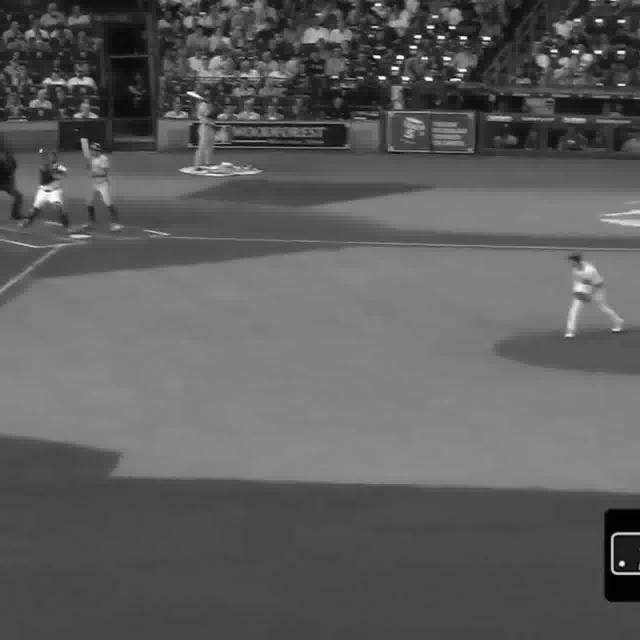base: (70, 233, 90, 239)
baseball: (39, 149, 44, 152)
baseball_glove: (574, 292, 594, 301)
shoe: (77, 218, 99, 232), (611, 316, 625, 332), (112, 224, 124, 232), (566, 331, 575, 338)
